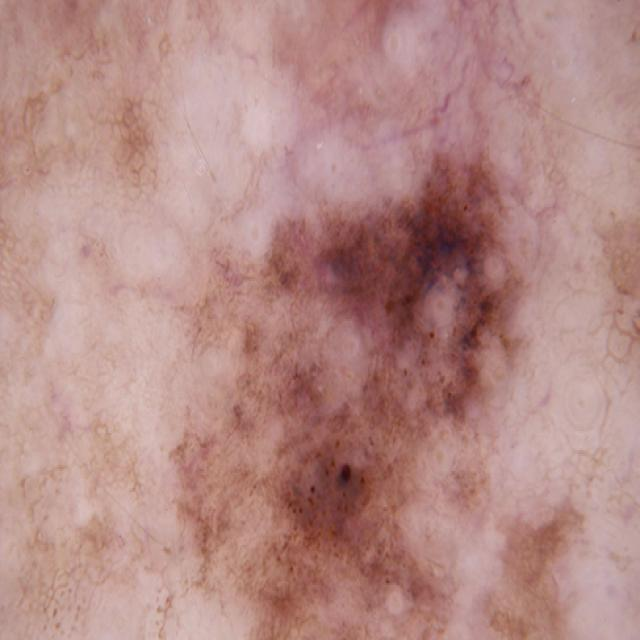Keratosis: (151, 116, 556, 640)
